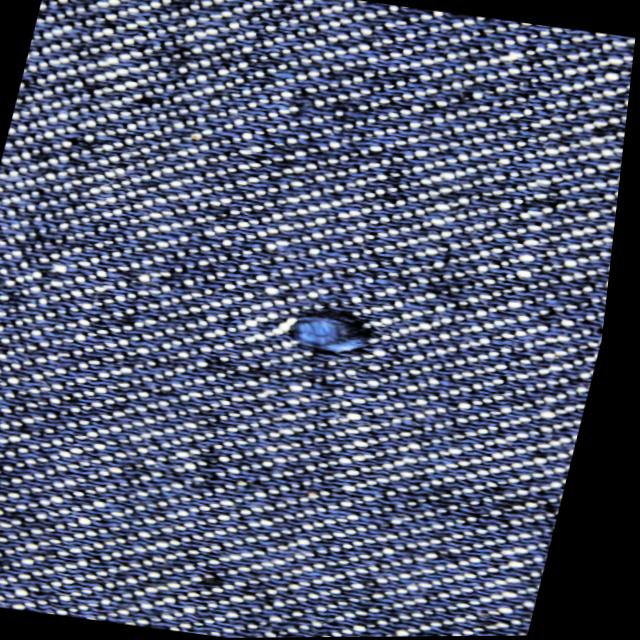Hole: (258, 280, 410, 387)
